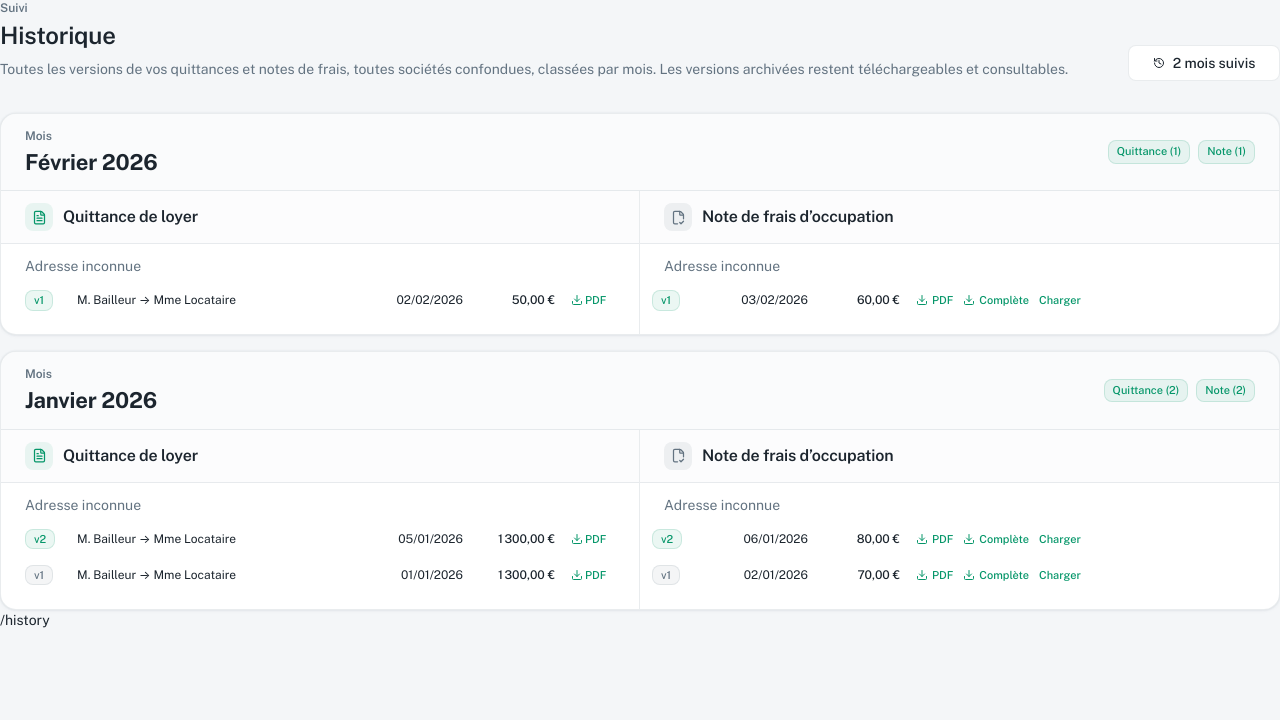
Test: HistoryPage › lists every archived version and lets users load one
This screenshot has width=1280, height=720.
Check: the text "2 mois suivis" is shown, box [1128,45,1279,81]
Check: the list item with test id "history-rent-receipt-11" is shown, box [25,528,606,549]
Click the button "Charger" in the row of "02/01/2026".
click(1060, 575)  # box [1035,564,1085,586]
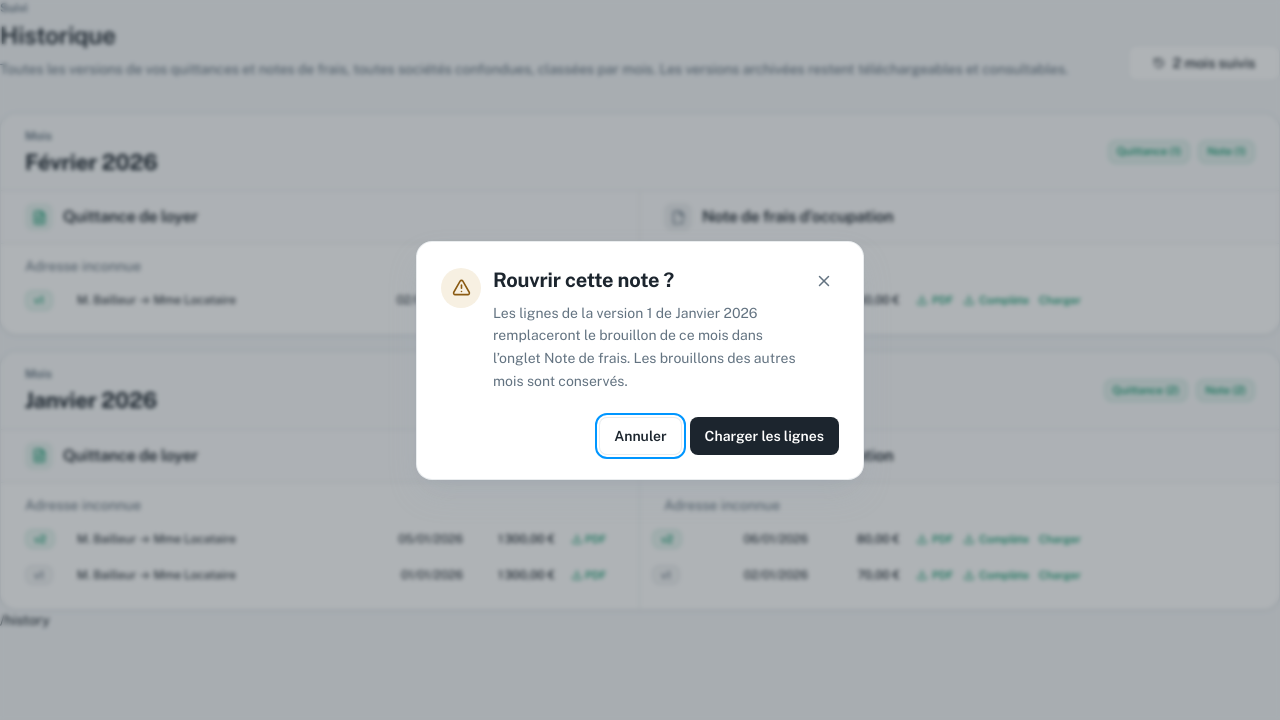
Check: the dialog "Rouvrir cette note ?" shows "Les lignes de la version 1 de Janvier 2026 remplaceront", box [493,304,796,389]
Click the button "Annuler".
click(640, 436)  # box [599,416,682,454]
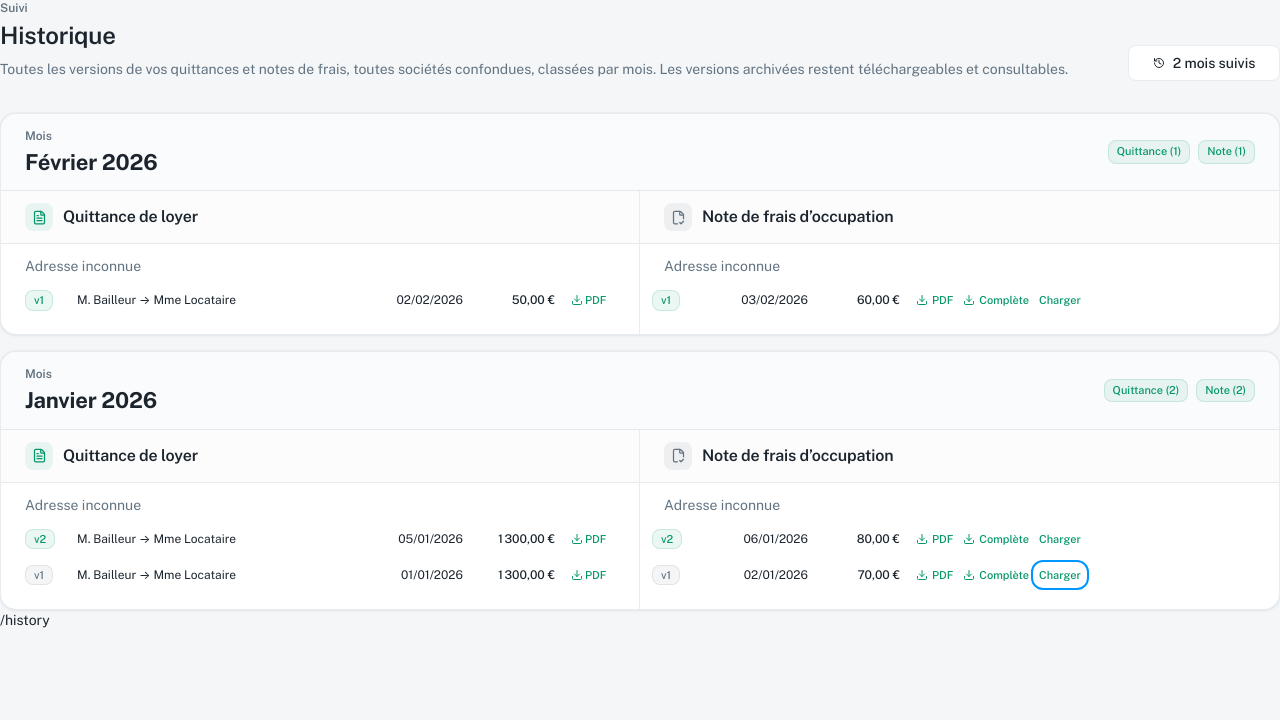
Check: the dialog is gone
